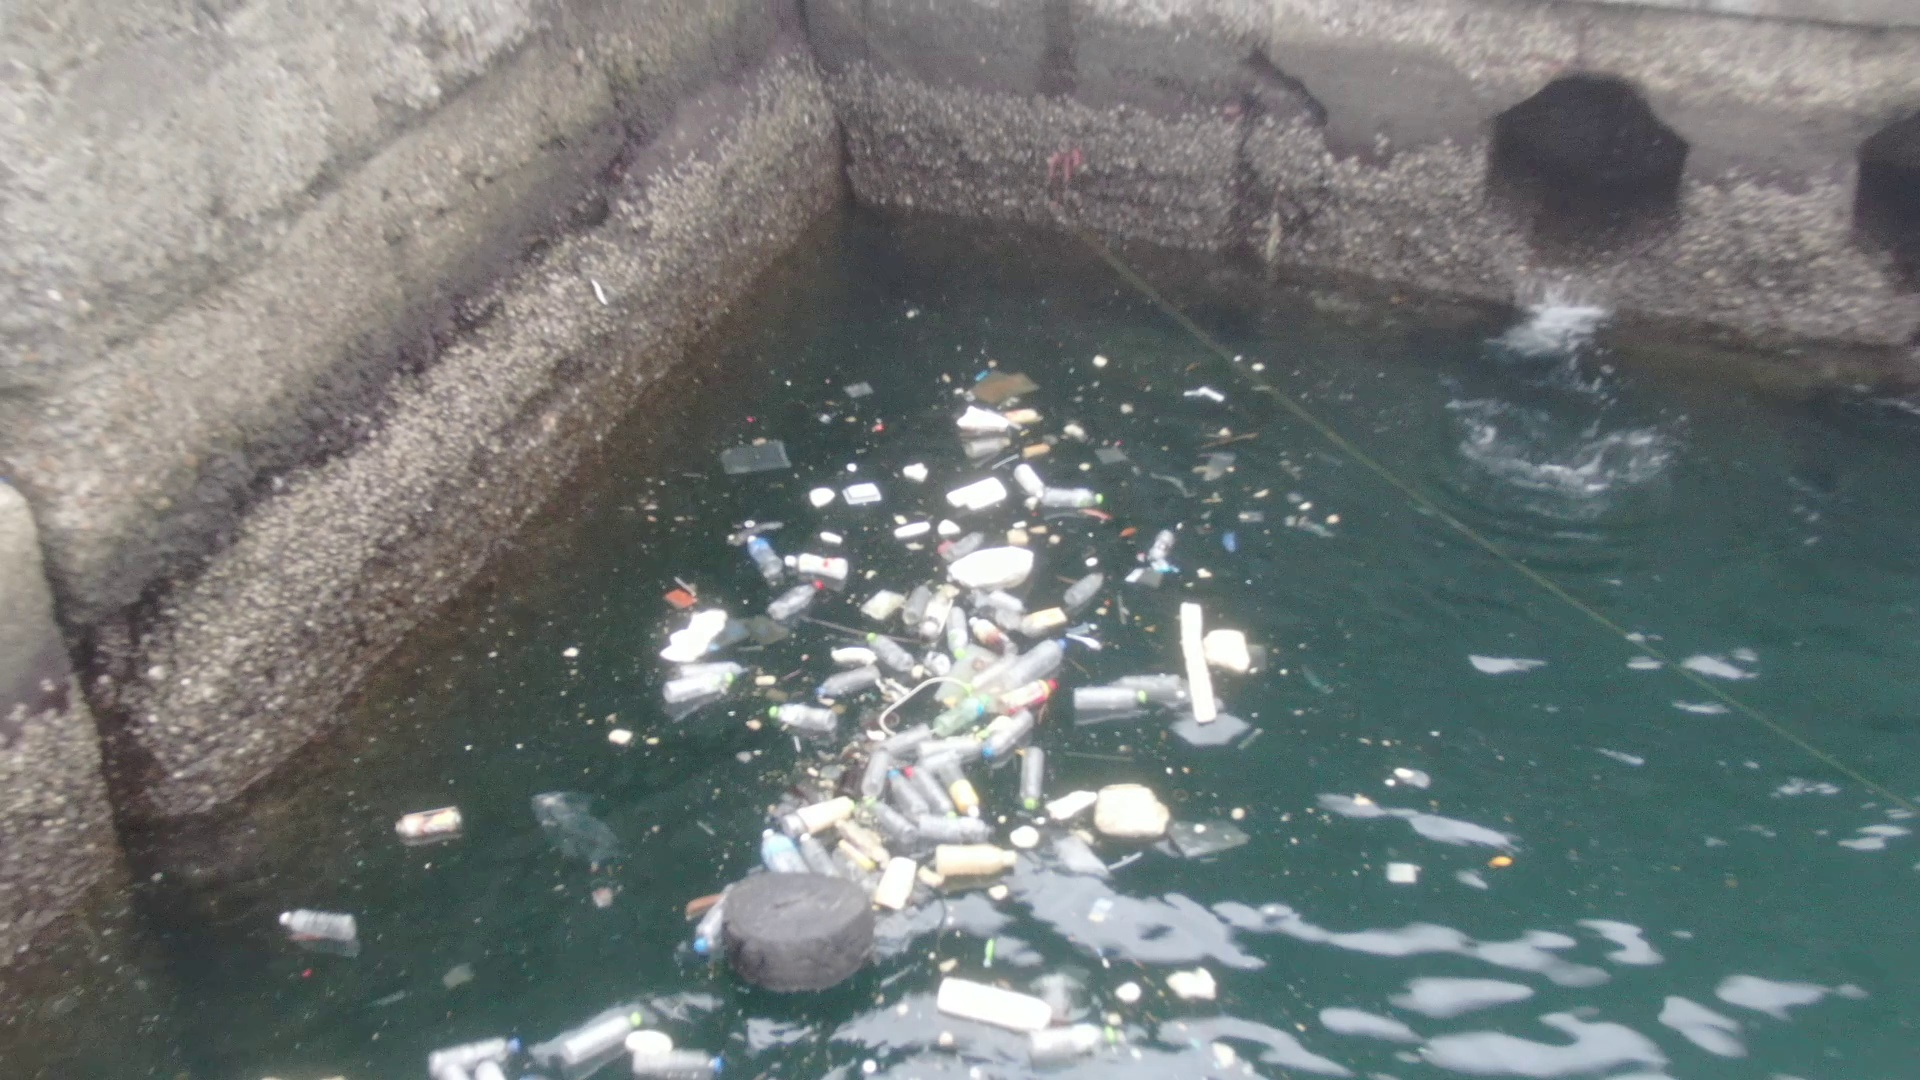bottle: (549, 994, 655, 1063), (429, 1025, 543, 1080), (262, 897, 371, 952), (615, 1036, 723, 1080), (934, 742, 986, 824), (688, 870, 737, 957), (907, 752, 952, 836), (752, 824, 808, 884), (993, 670, 1064, 715), (781, 549, 857, 589), (389, 804, 469, 843), (741, 529, 787, 595), (1021, 733, 1048, 822), (889, 765, 927, 820)
garbage: (647, 560, 1288, 1080), (709, 338, 1286, 779)
